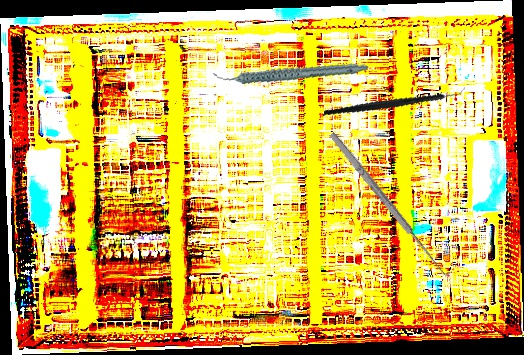Chopper: (323, 55, 466, 145)
Handpiece: (211, 40, 370, 103)
Hook Surgical: (326, 126, 457, 280)
